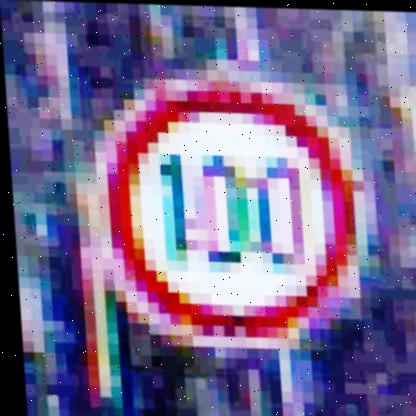Speed Limit -100-: (87, 69, 376, 350)
